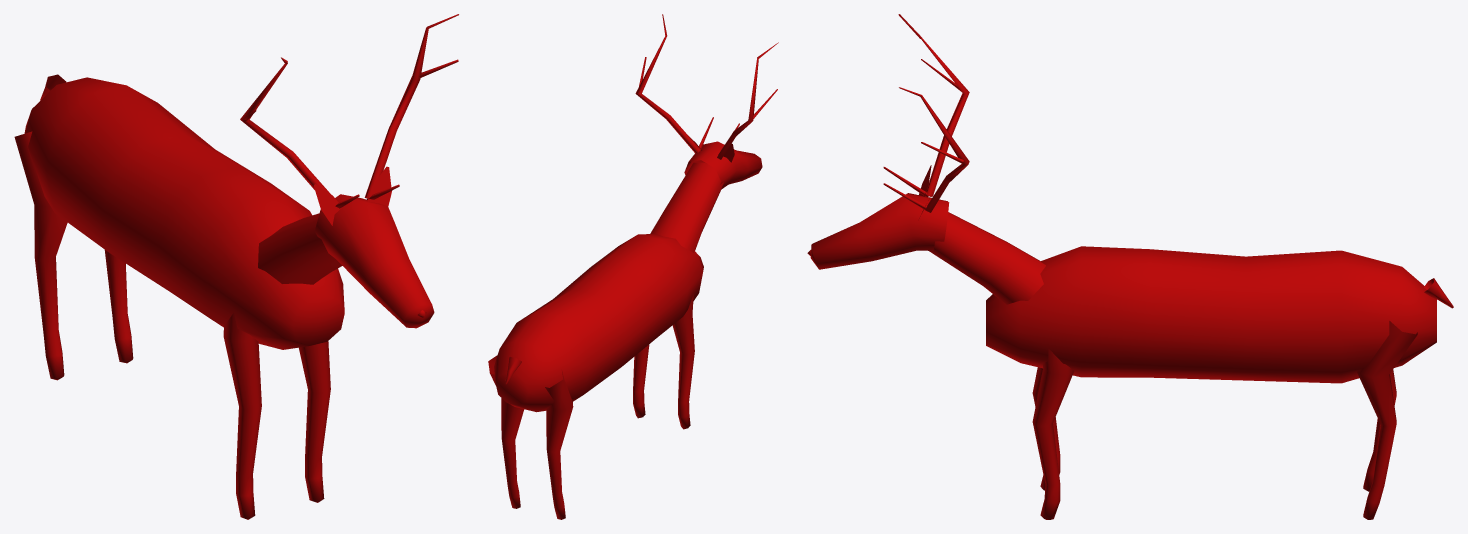
The model's file is elk.glb.
3 renders of one model, left to right at view 1: azimuth 30°, elevation 25°; view 2: azimuth 150°, elevation 25°; view 3: azimuth 270°, elevation 25°, orthographic. The views are drawn at different scales.
Parts seen in each view (by area): view 1: body, head, leg_lh, leg_lf, leg_rf, leg_rh; view 2: body, head, leg_lh, leg_lf, leg_rh, leg_rf; view 3: body, head, leg_rh, leg_rf.
Boxes of the visible parts, x1=… form: body: x1=24, y1=77, x2=344, y2=349; head: x1=240, y1=14, x2=458, y2=328; leg_lh: x1=14, y1=131, x2=67, y2=380; leg_lf: x1=223, y1=312, x2=261, y2=519; leg_rf: x1=299, y1=341, x2=330, y2=502; leg_rh: x1=104, y1=250, x2=133, y2=363; body: x1=494, y1=234, x2=703, y2=412; head: x1=635, y1=14, x2=778, y2=252; leg_lh: x1=545, y1=371, x2=573, y2=519; leg_lf: x1=672, y1=294, x2=694, y2=429; leg_rh: x1=488, y1=355, x2=524, y2=508; leg_rf: x1=633, y1=344, x2=649, y2=418; body: x1=986, y1=246, x2=1436, y2=383; head: x1=807, y1=14, x2=1045, y2=304; leg_rh: x1=1357, y1=321, x2=1417, y2=519; leg_rf: x1=1032, y1=349, x2=1074, y2=519.
Size of the model in its own units: 1.09 by 2.77 by 3.57.
